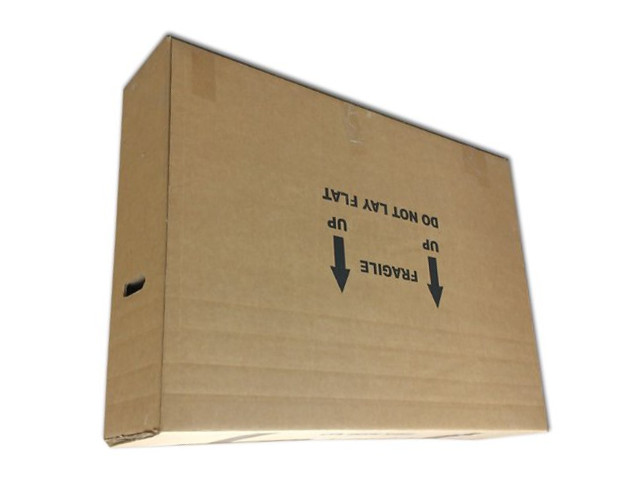cardboard: (95, 34, 549, 444)
